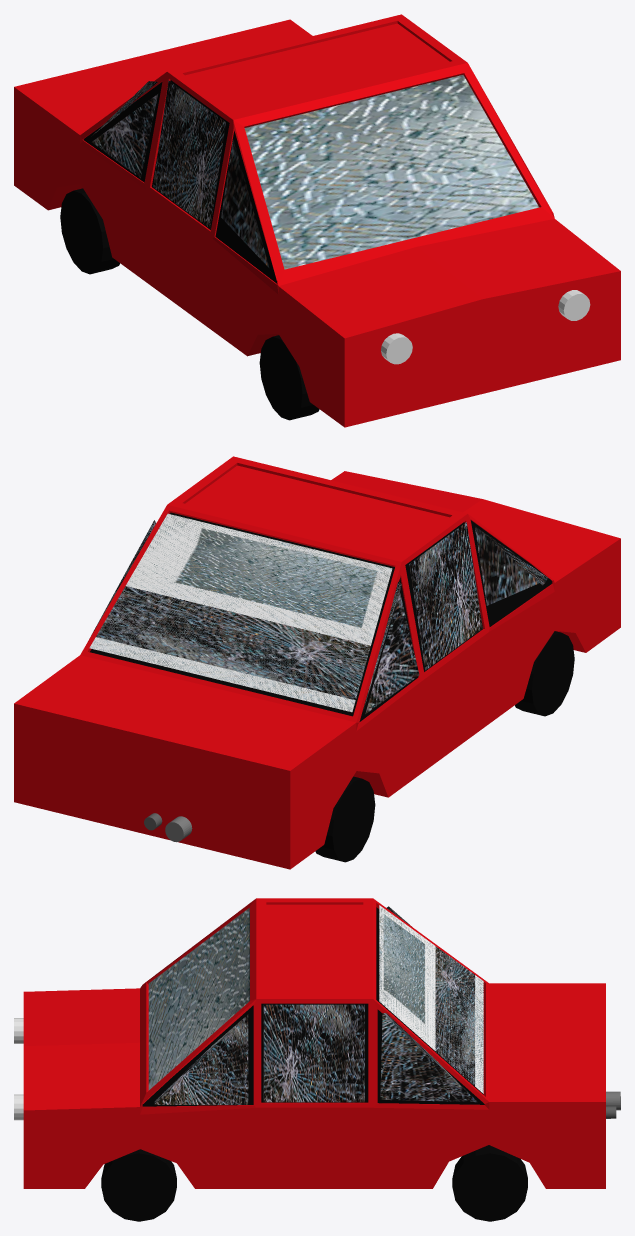
File: CarRedStage2.fbx
3 renders of one model, top to bottom at view 1: azimuth 30°, elevation 25°; view 2: azimuth 150°, elevation 25°; view 3: azimuth 270°, elevation 25°, orthographic. The views are drawn at different scales.
Parts seen in each view (by area): view 1: Car, Achteruit kapot, wheels, Headlights; view 2: Car, Achteruit kapot, wheels; view 3: Car, Achteruit kapot, wheels, Headlights.
Boxes of the visible parts, bbox=[...] form: Car: bbox=[14, 14, 620, 427]; Achteruit kapot: bbox=[91, 75, 539, 269]; wheels: bbox=[60, 188, 319, 420]; Headlights: bbox=[381, 290, 590, 364]; Car: bbox=[14, 456, 620, 869]; Achteruit kapot: bbox=[89, 513, 548, 713]; wheels: bbox=[315, 631, 574, 862]; Car: bbox=[23, 898, 605, 1188]; Achteruit kapot: bbox=[148, 905, 483, 1104]; wheels: bbox=[101, 1145, 527, 1221]; Headlights: bbox=[14, 1018, 23, 1120].
Size of the model in its own units: 502 by 415 by 1063.
